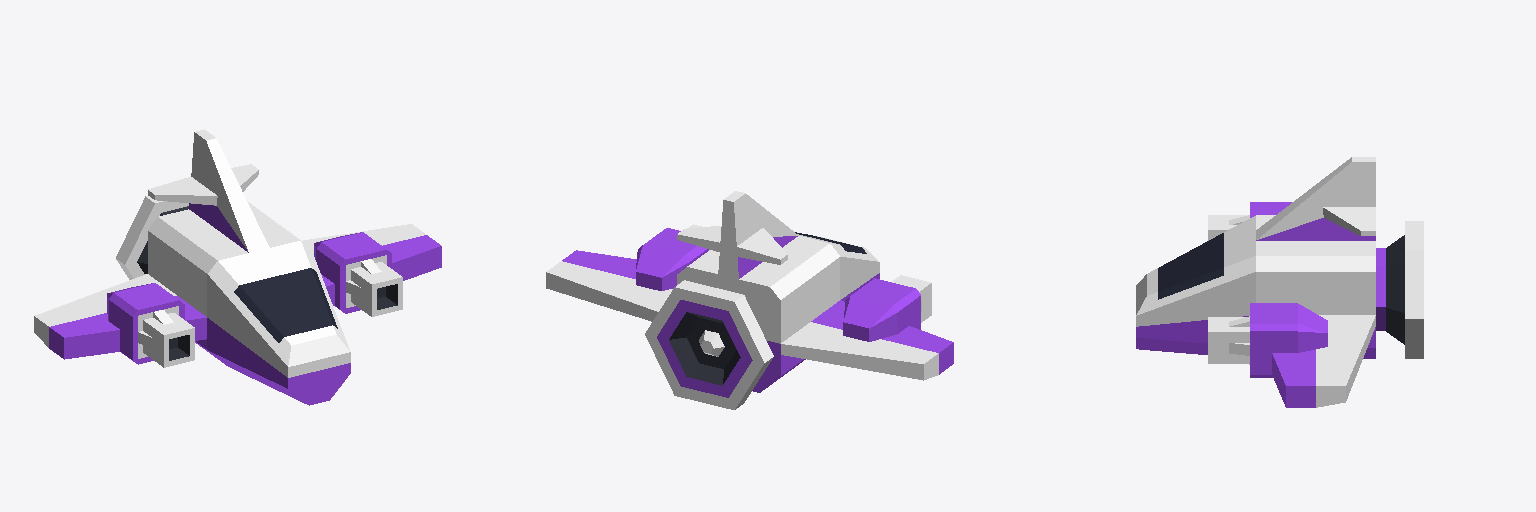
File: ship1.obj
The picture shows the model from 3 angles: view 1: azimuth 30°, elevation 25°; view 2: azimuth 150°, elevation 25°; view 3: azimuth 270°, elevation 25°; orthographic projection.
Visible parts, largest first — view 1: mergedBlocks; view 2: mergedBlocks; view 3: mergedBlocks.
Part boxes in pixels (left/top/right/bottom): mergedBlocks: left=34, top=129, right=441, bottom=405; mergedBlocks: left=546, top=191, right=953, bottom=409; mergedBlocks: left=1136, top=157, right=1423, bottom=407.
Size of the model in its own units: 1.09 by 0.51 by 0.72.